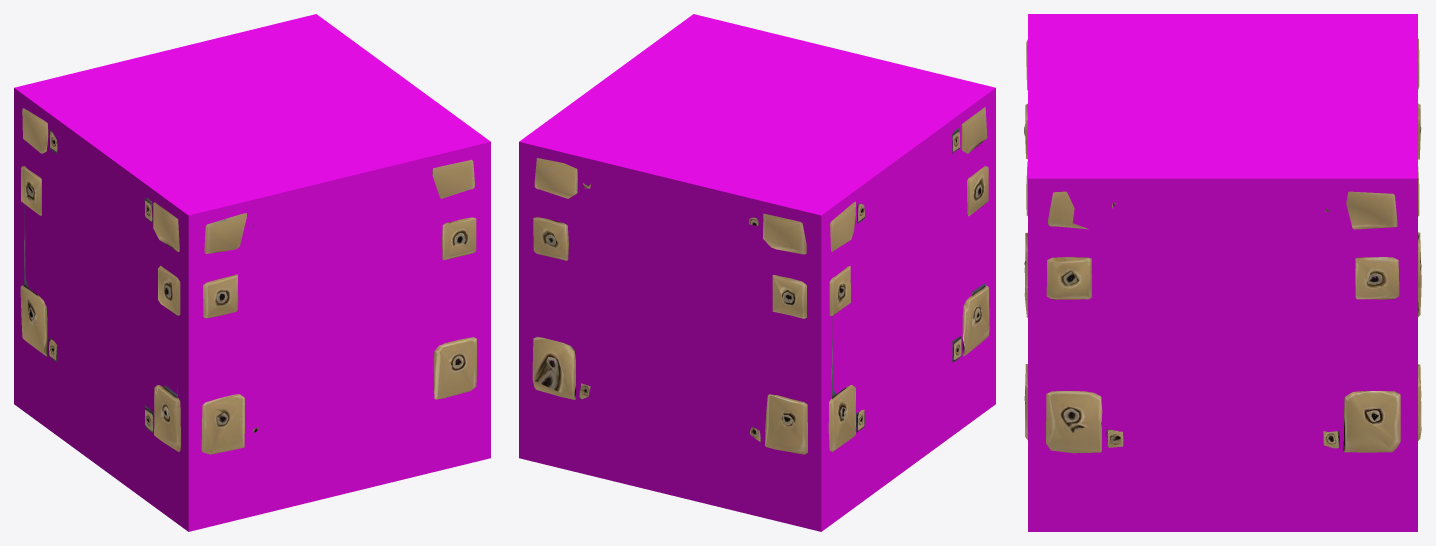
Rendered from prop_crate_1.glb.
The picture shows the model from 3 angles, left to right: view 1: azimuth 30°, elevation 25°; view 2: azimuth 150°, elevation 25°; view 3: azimuth 270°, elevation 25°; orthographic projection. The views are drawn at different scales.
Visible parts, largest first — view 1: prop_crate_1_col, prop_crate_1; view 2: prop_crate_1_col, prop_crate_1; view 3: prop_crate_1_col, prop_crate_1.
Part boxes in pixels (<box>): prop_crate_1_col: <box>14,14,490,531</box>; prop_crate_1: <box>20,108,476,454</box>; prop_crate_1_col: <box>519,14,995,531</box>; prop_crate_1: <box>532,107,989,454</box>; prop_crate_1_col: <box>1028,14,1417,531</box>; prop_crate_1: <box>1024,38,1421,453</box>.
Size of the model in its own units: 1.02 by 1 by 1.02.
Materials: 2 (1 with a texture image).
